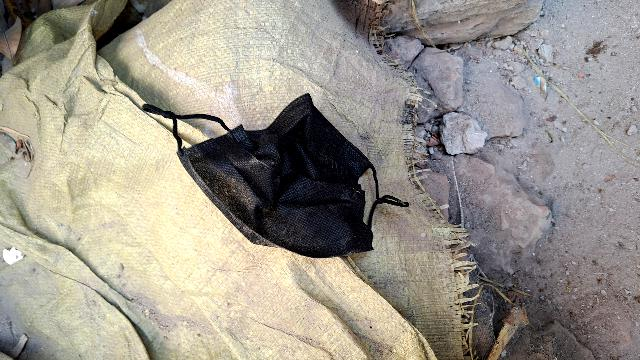mask: (174, 60, 404, 294)
